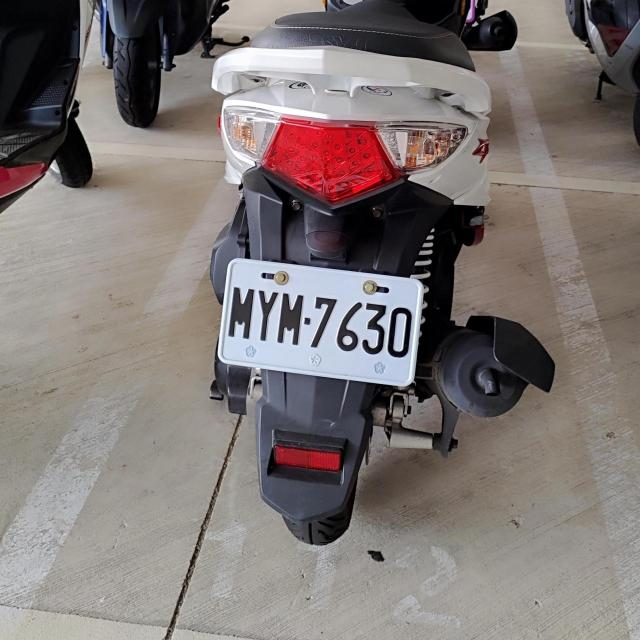W: (218, 259, 422, 384)
